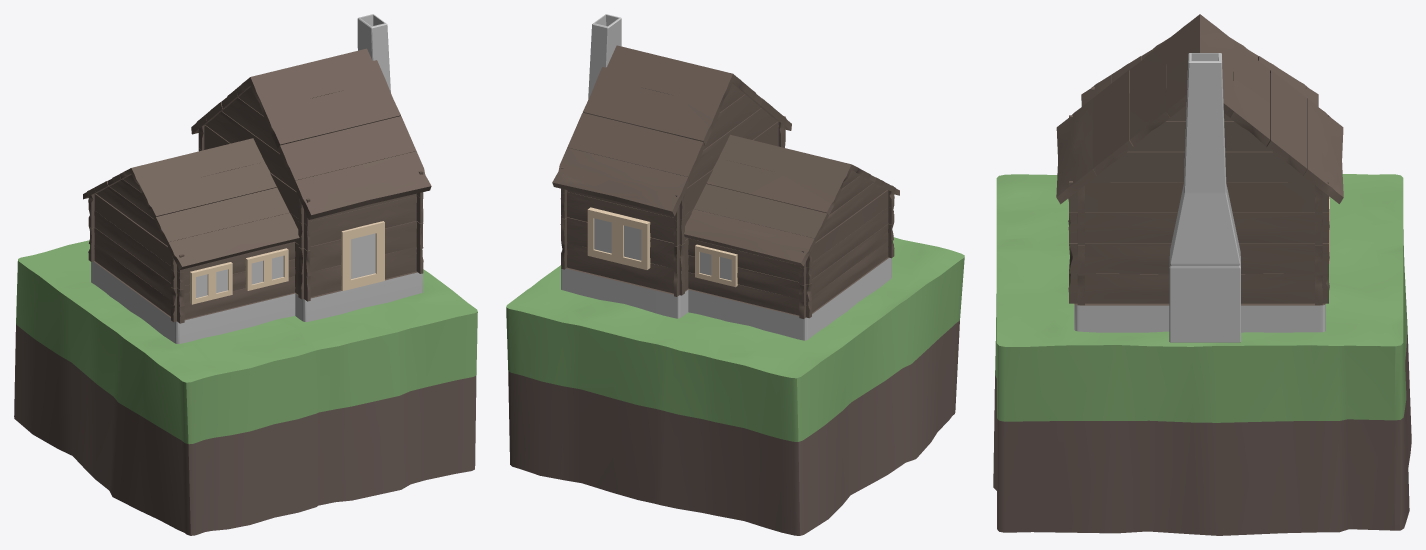
The model's file is cabin_map1.fbx.
3 renders of one model, left to right at view 1: azimuth 30°, elevation 25°; view 2: azimuth 150°, elevation 25°; view 3: azimuth 270°, elevation 25°, orthographic. The views are drawn at different scales.
Parts seen in each view (by area): view 1: ground, house1_pasted__pCube14, home, pCube12; view 2: ground, house1_pasted__pCube14, home, pCube12; view 3: ground, house1_pasted__pCube14, pCube12, home.
Part boxes in pixels (x1,y1,x2,y2): ground: (14,240,477,535); house1_pasted__pCube14: (191,48,431,321); home: (83,138,299,343); pCube12: (357,14,390,92); ground: (506,237,964,535); house1_pasted__pCube14: (552,45,791,318); home: (684,134,899,340); pCube12: (588,14,621,99); ground: (993,174,1411,535); house1_pasted__pCube14: (1056,14,1343,332); pCube12: (1169,53,1240,342); home: (1081,38,1318,106).
Bounding box in the file's own units: 20.78 × 24.95 × 20.34.
